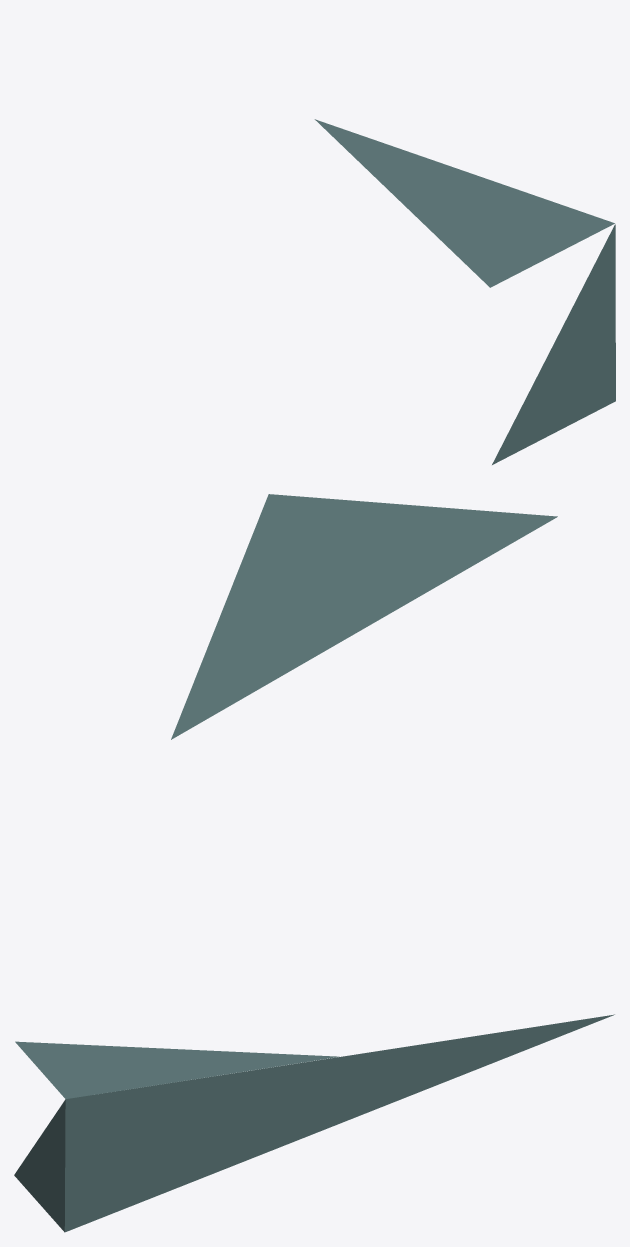
3 renders of one model, top to bottom at view 1: azimuth 30°, elevation 25°; view 2: azimuth 150°, elevation 25°; view 3: azimuth 270°, elevation 25°, orthographic. The views are drawn at different scales.
Visible parts, largest first — view 1: measured-industrial; view 2: measured-industrial; view 3: measured-industrial.
Boxes of the visible parts, x1=… form: measured-industrial: x1=314, y1=119, x2=615, y2=464; measured-industrial: x1=171, y1=494, x2=557, y2=739; measured-industrial: x1=14, y1=1014, x2=614, y2=1232.
Size of the model in its own units: 2.08 by 1.51 by 6.15.
